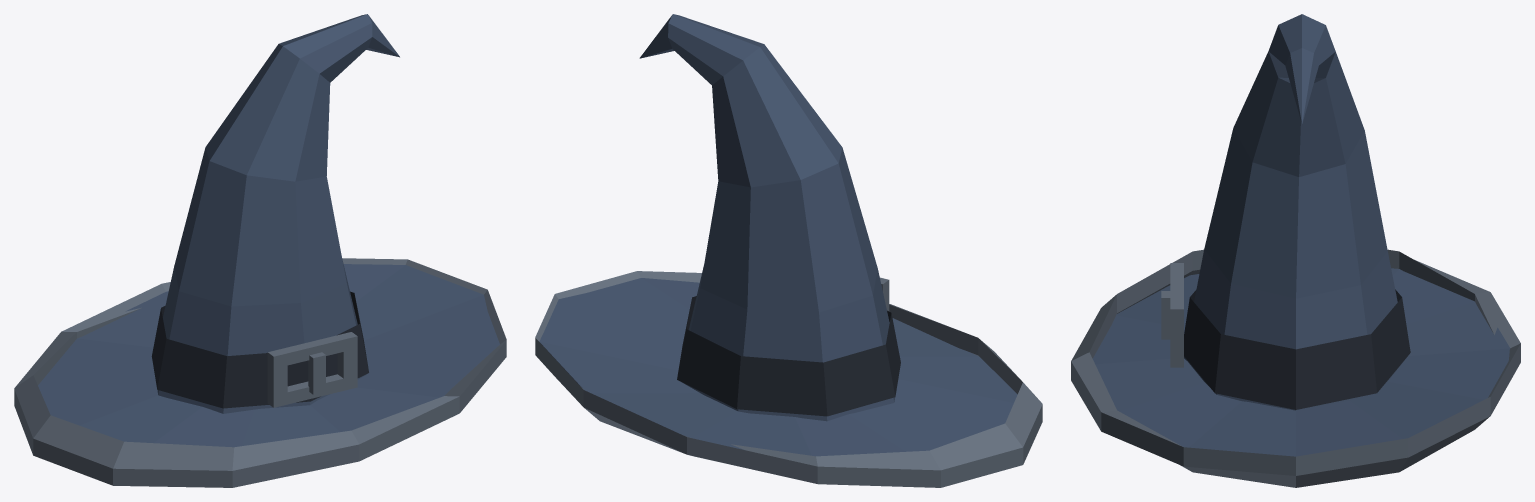
3 renders of one model, left to right at view 1: azimuth 30°, elevation 25°; view 2: azimuth 150°, elevation 25°; view 3: azimuth 270°, elevation 25°, orthographic. The views are drawn at different scales.
Visible parts, largest first — view 1: Copa dobrada, Aba em planos, Borda da aba, Faixa, Fecho, Trava do fecho; view 2: Copa dobrada, Aba em planos, Borda da aba, Faixa; view 3: Copa dobrada, Aba em planos, Borda da aba, Faixa, Fecho, Trava do fecho.
Boxes of the visible parts, x1=… form: Copa dobrada: x1=157, y1=14, x2=399, y2=413; Aba em planos: x1=38, y1=264, x2=499, y2=447; Borda da aba: x1=14, y1=258, x2=506, y2=487; Faixa: x1=151, y1=291, x2=368, y2=408; Fecho: x1=267, y1=332, x2=357, y2=407; Trava do fecho: x1=308, y1=352, x2=325, y2=394; Copa dobrada: x1=639, y1=14, x2=895, y2=421; Aba em planos: x1=539, y1=278, x2=1017, y2=456; Borda da aba: x1=535, y1=271, x2=1042, y2=487; Faixa: x1=677, y1=296, x2=900, y2=416; Copa dobrada: x1=1184, y1=14, x2=1407, y2=410; Aba em planos: x1=1092, y1=268, x2=1510, y2=456; Borda da aba: x1=1071, y1=249, x2=1520, y2=487; Faixa: x1=1184, y1=289, x2=1410, y2=409; Fecho: x1=1170, y1=263, x2=1183, y2=367; Trava do fecho: x1=1161, y1=291, x2=1170, y2=339.
Bounding box in the file's own units: 1.95 × 1.47 × 1.47.
